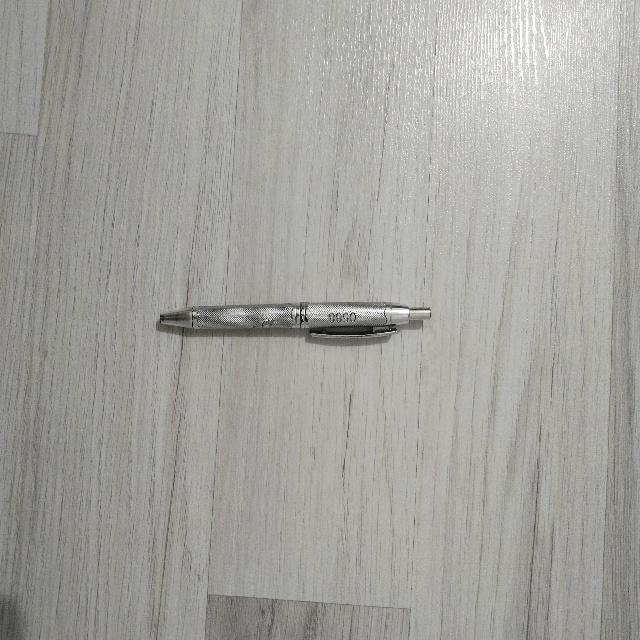signature pen: (160, 302, 430, 337)
